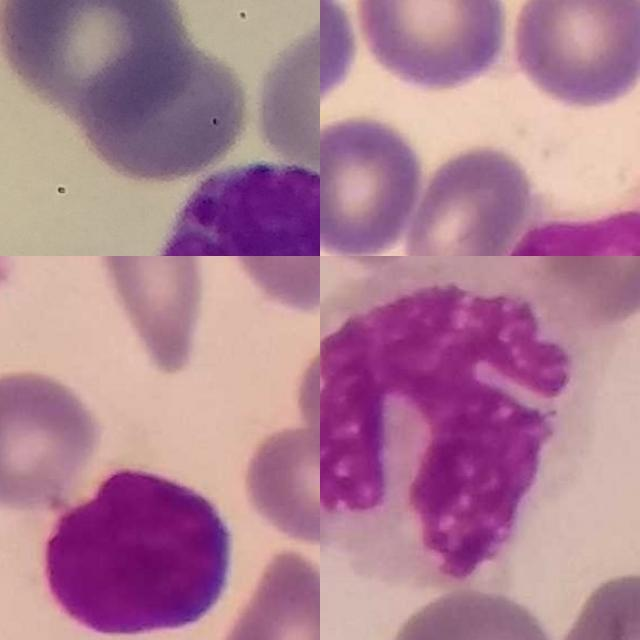Basophil: (137, 162, 320, 256)
Lymphocyte: (44, 464, 234, 639)
Monocyte: (320, 256, 602, 588)
